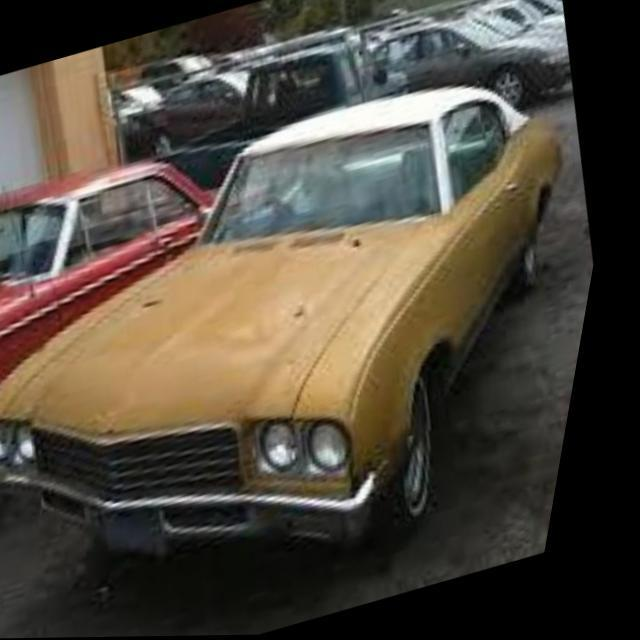rub: (205, 289, 314, 356)
